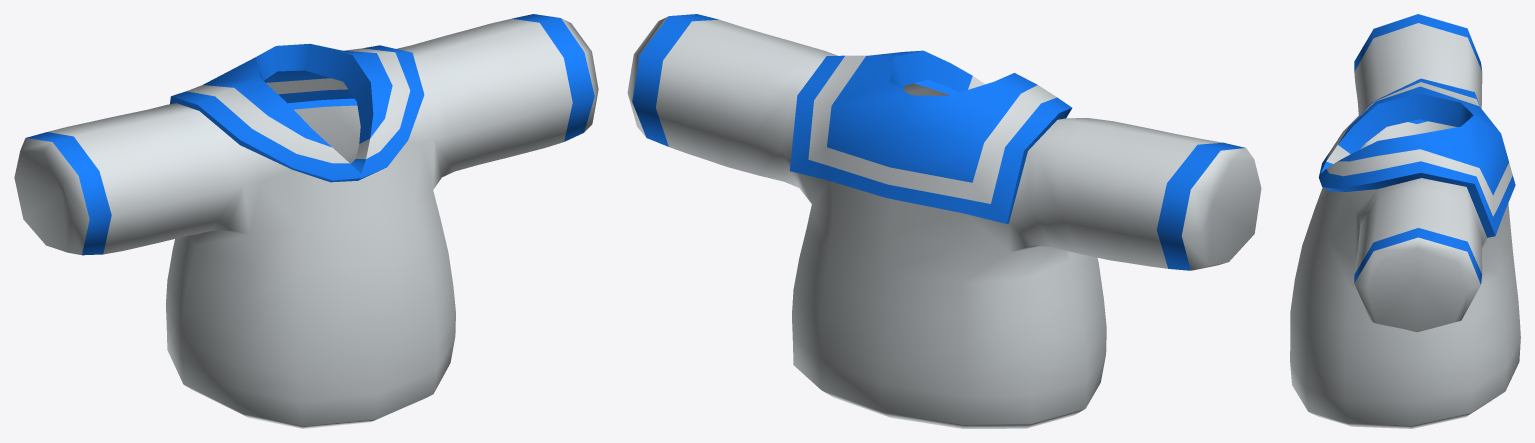
The model's file is Top_49.fbx.
3 renders of one model, left to right at view 1: azimuth 30°, elevation 25°; view 2: azimuth 150°, elevation 25°; view 3: azimuth 270°, elevation 25°, orthographic. The views are drawn at different scales.
Parts seen in each view (by area): view 1: Top_49; view 2: Top_49; view 3: Top_49.
Boxes of the visible parts, x1,y1,x2,y2 form: Top_49: (14, 14, 598, 428); Top_49: (627, 14, 1261, 428); Top_49: (1290, 14, 1520, 428).
Size of the model in its own units: 84.92 by 47.29 by 35.57.
